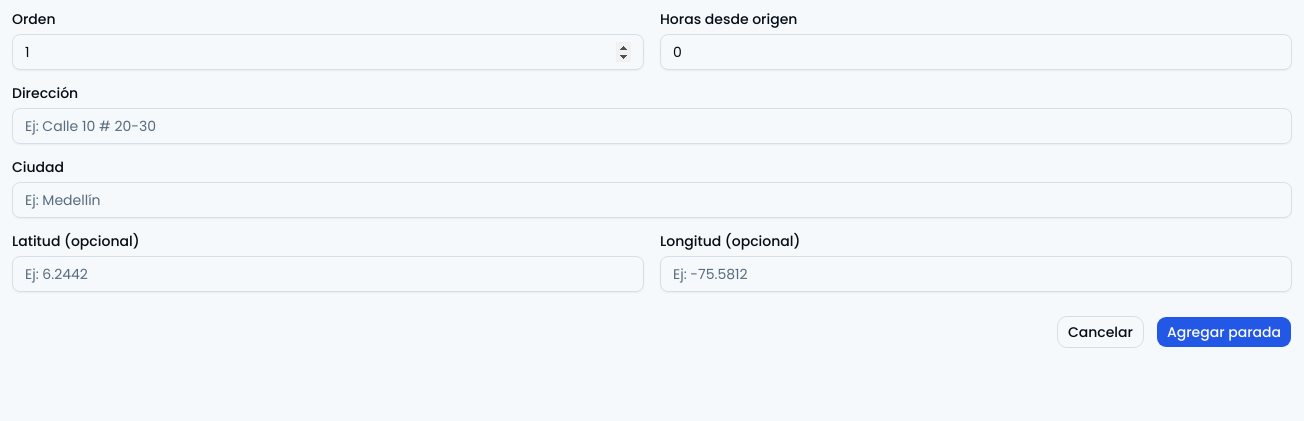
Test: StopForm — validación › stop_order = 0 genera error 'Mínimo 1'
Replace the text in the number field labelled "Orden" with "0" at {"x": 328, "y": 52}, box [12,34,644,70]
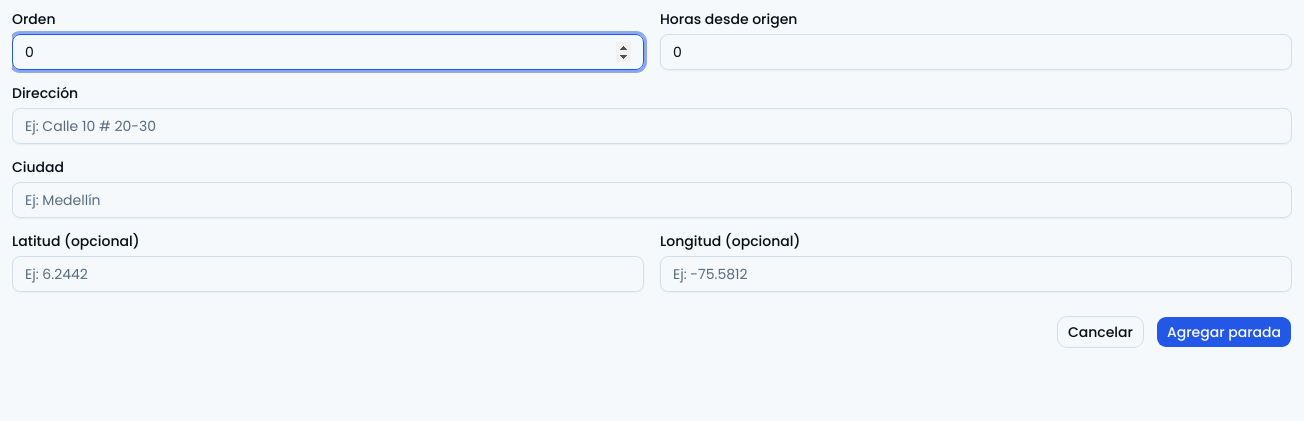
Type "Av. Test" into the field labelled "Dirección" at {"x": 652, "y": 126}, box [12,108,1292,144]
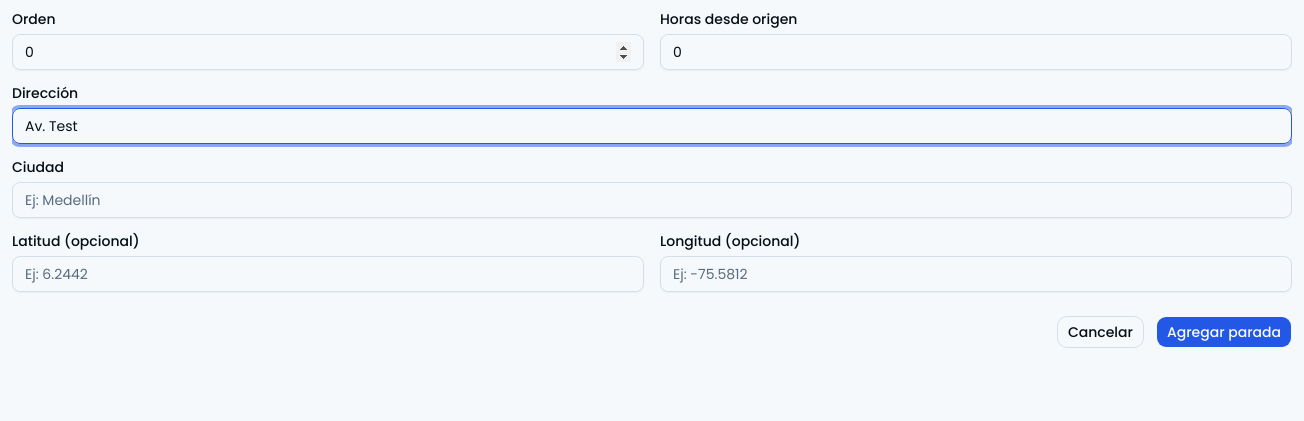
Type "Bogotá" into the field labelled "Ciudad" at {"x": 652, "y": 200}, box [12,182,1292,218]
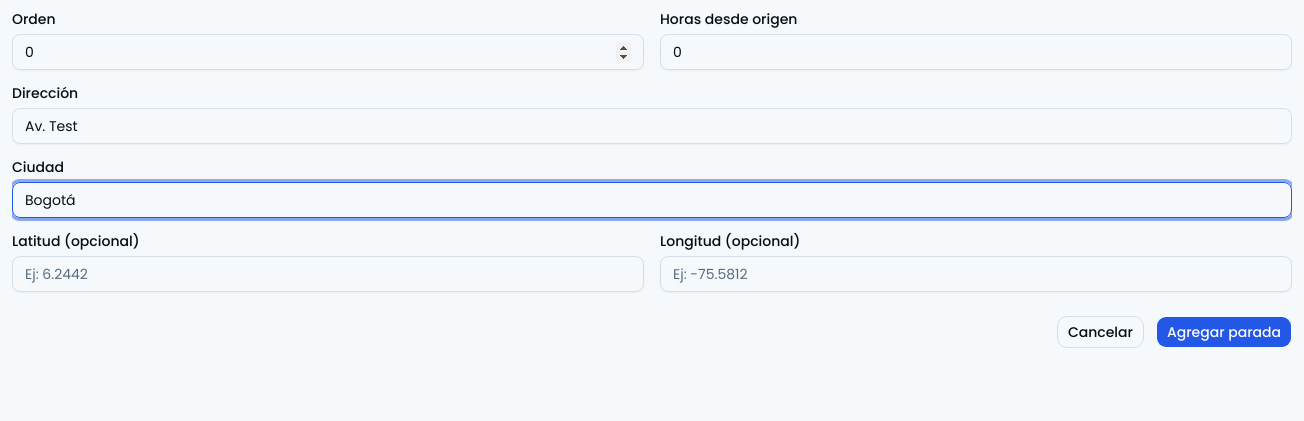
Click the button "Agregar parada" at {"x": 1224, "y": 332}, box [1156,316,1292,348]
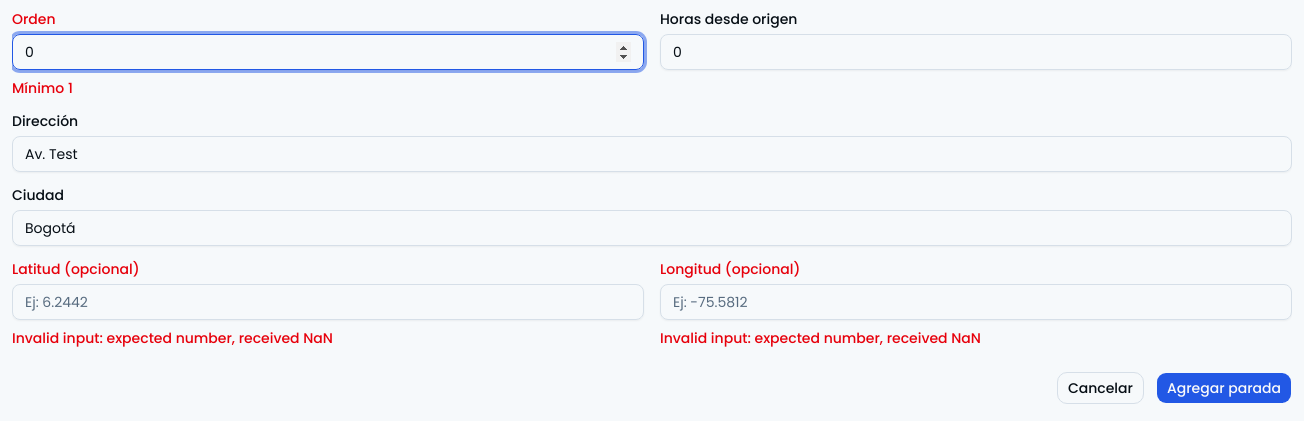
Expected: the text "Mínimo 1" is shown, [12,78,73,98]
